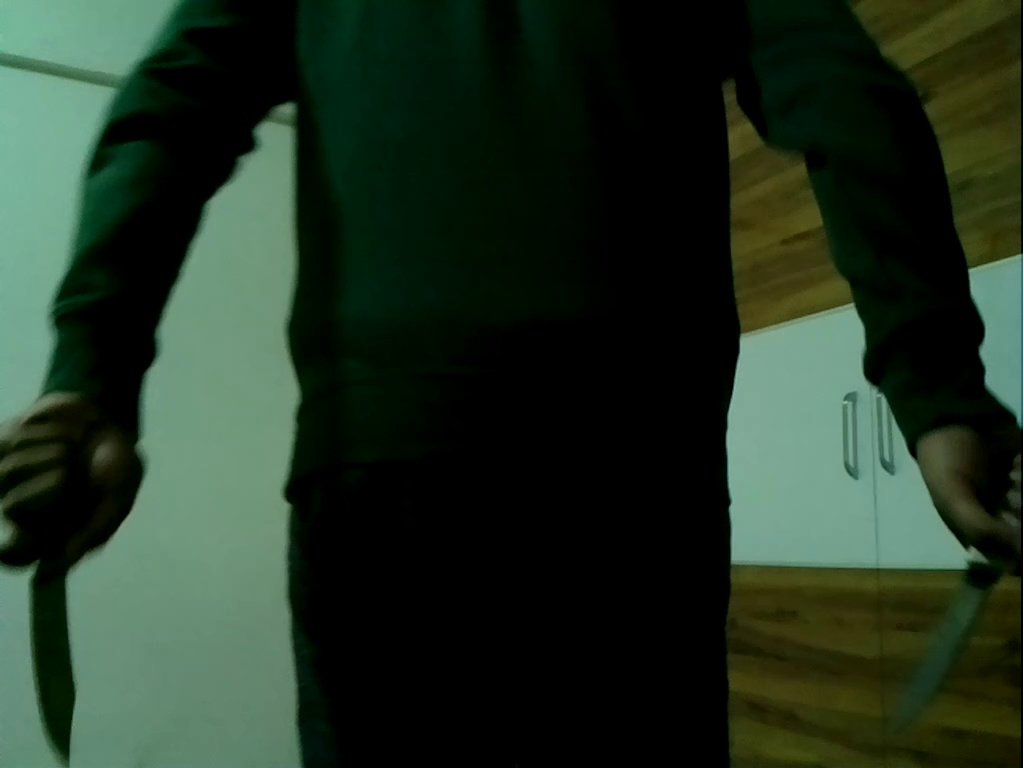knife: (3, 436, 123, 767)
